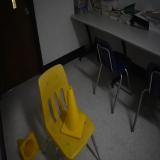cone: (60, 86, 86, 139), (17, 131, 40, 160)
